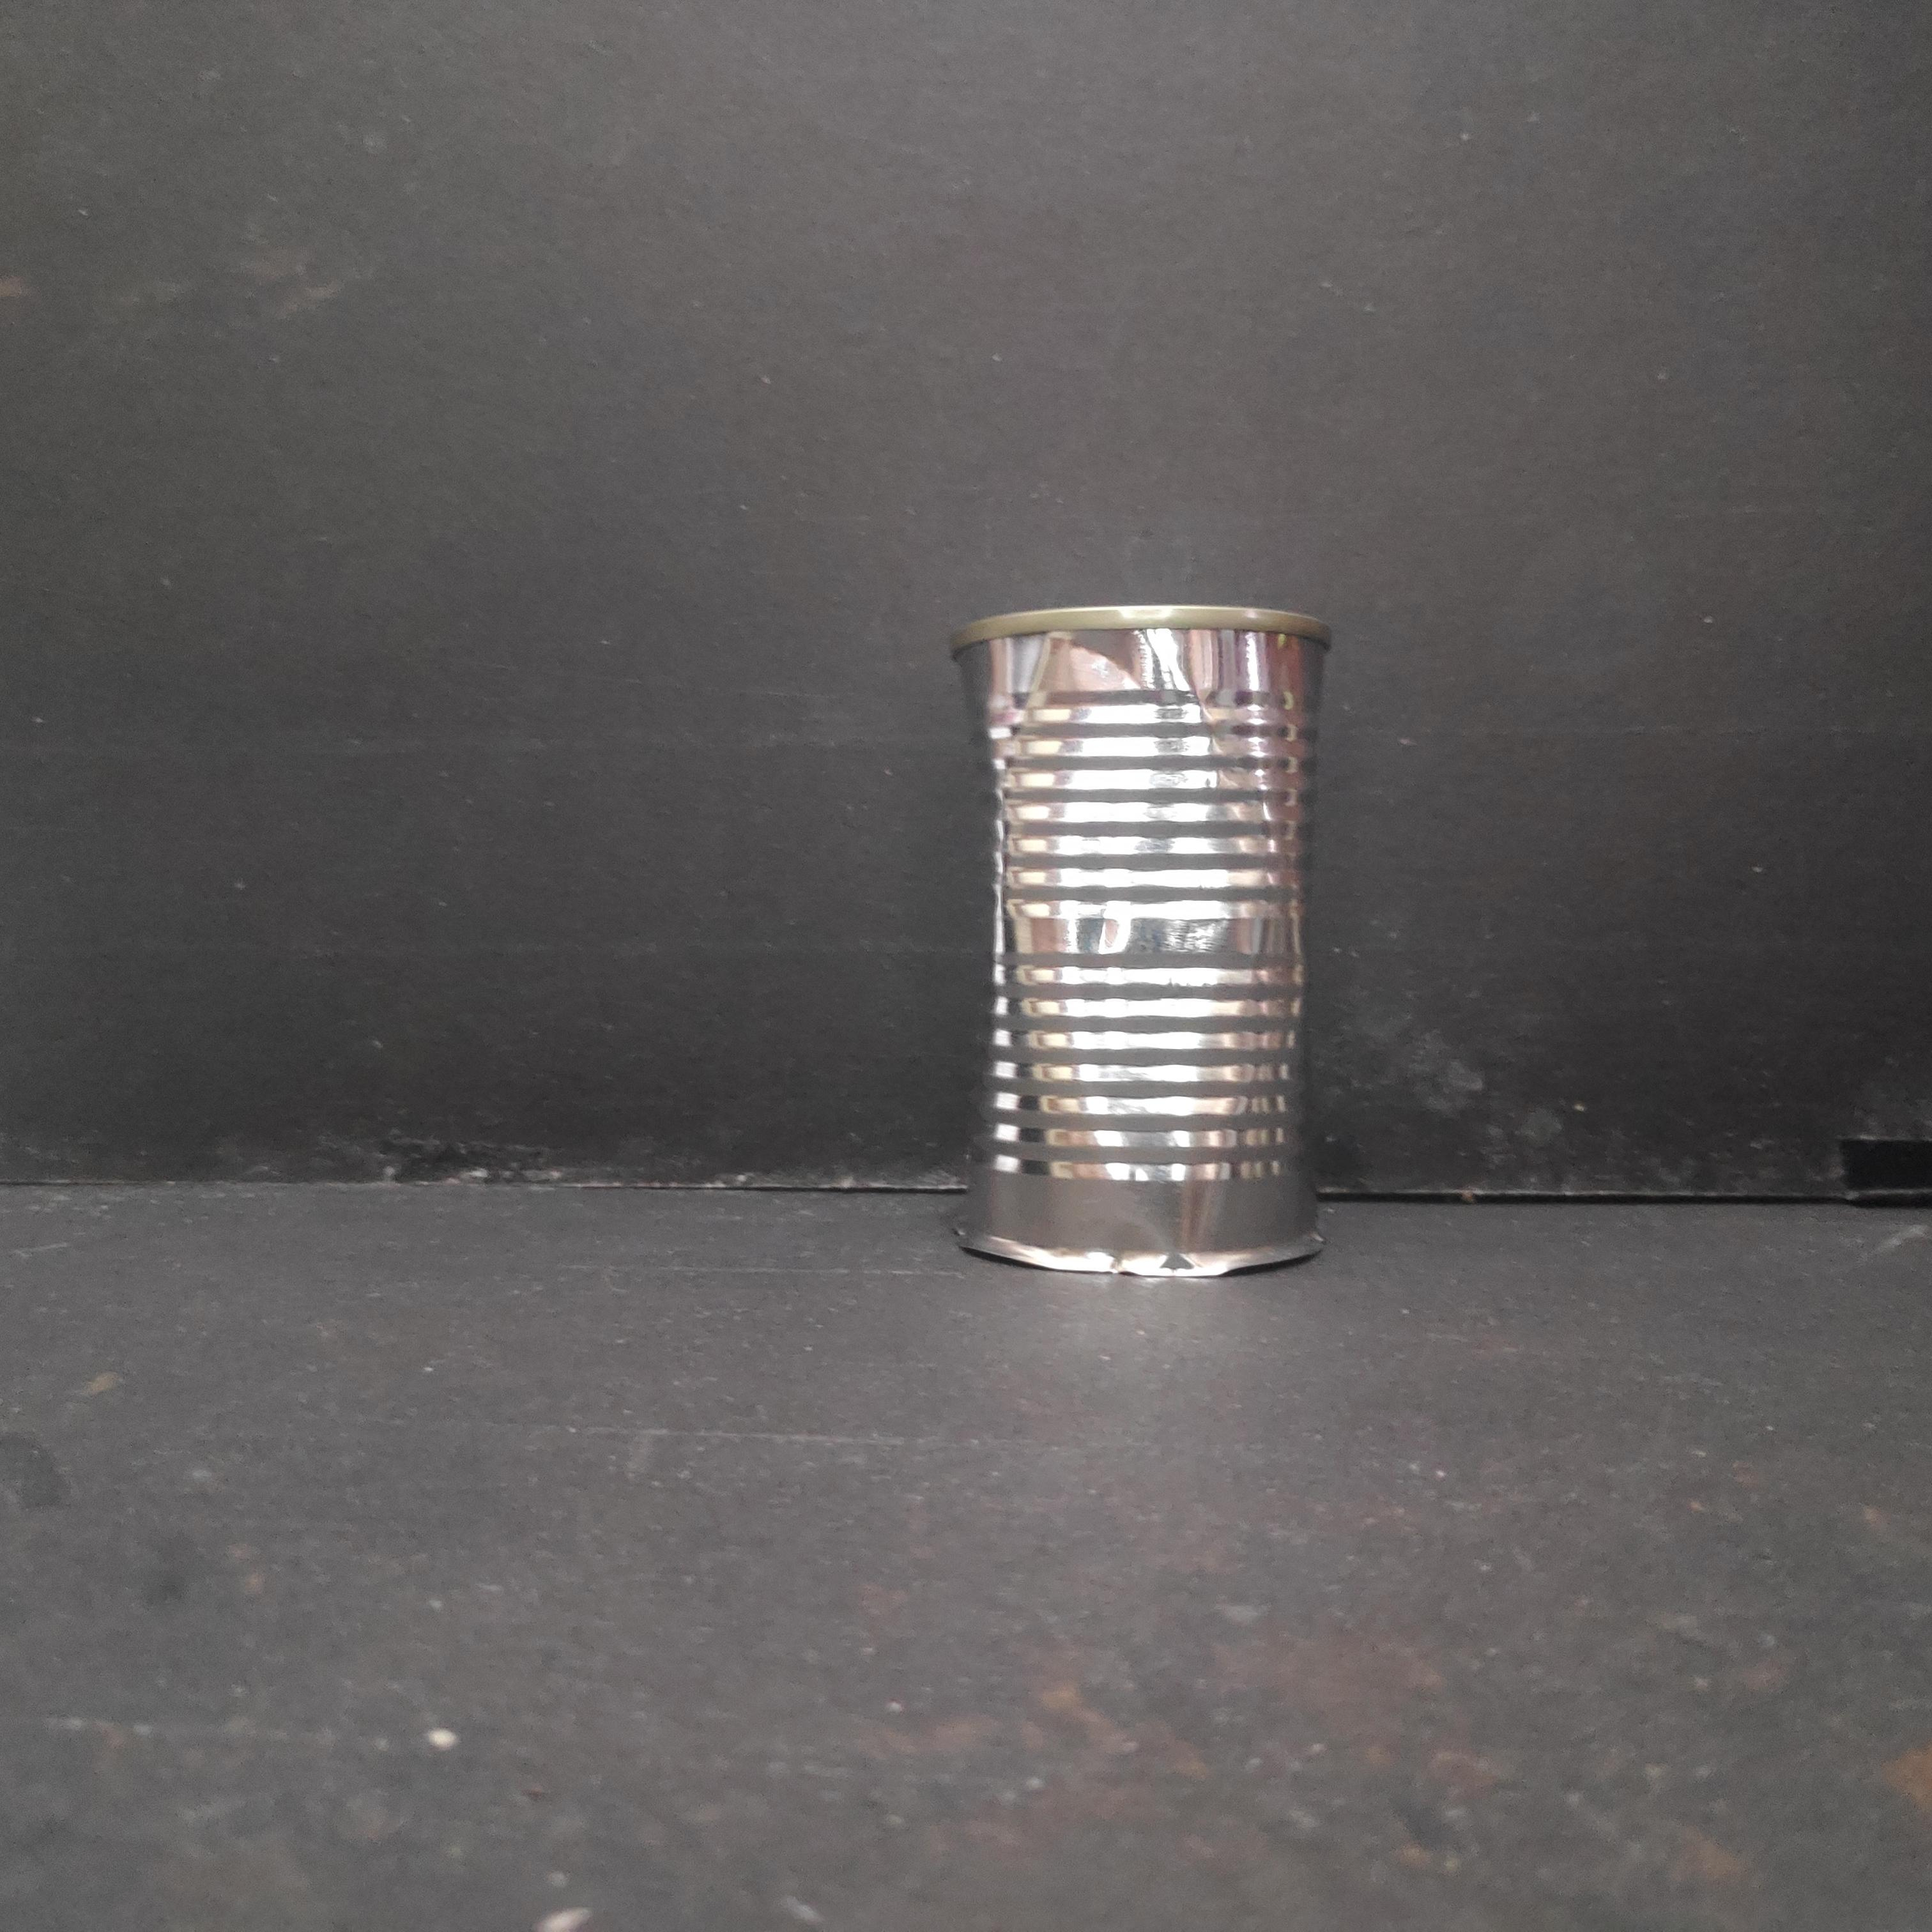Minor Defect: (943, 589, 1350, 1297)
